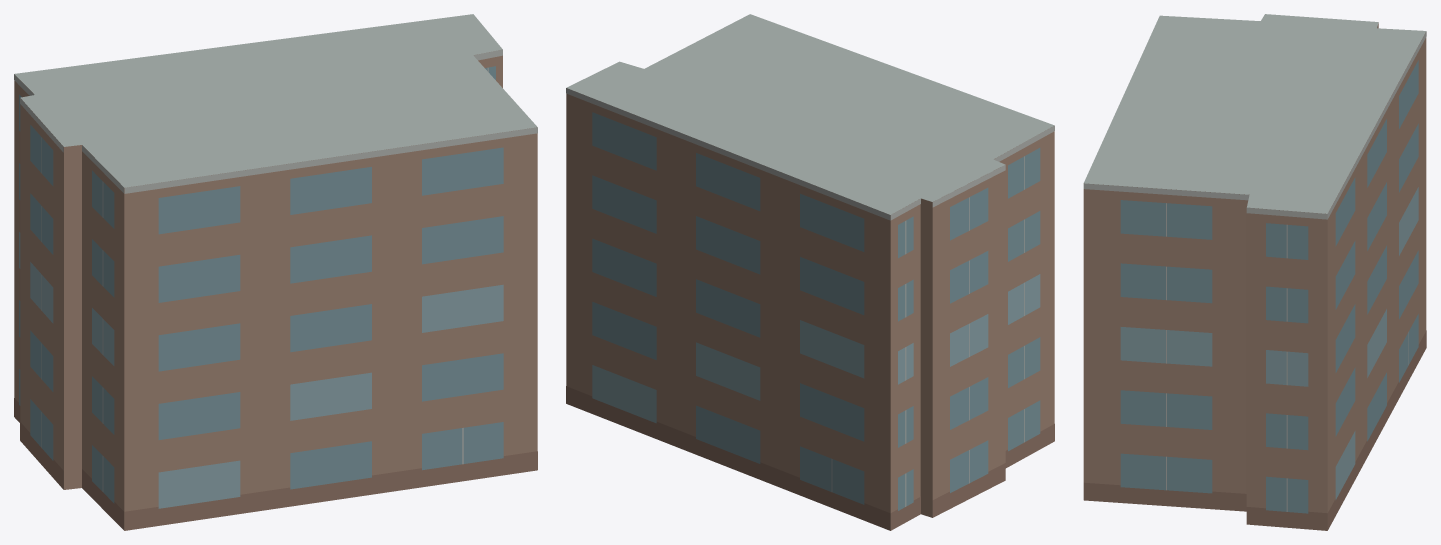
Rendered from survey-upis-33005167.glb.
3 renders of one model, left to right at view 1: azimuth 30°, elevation 25°; view 2: azimuth 150°, elevation 25°; view 3: azimuth 270°, elevation 25°, orthographic. The views are drawn at different scales.
Parts seen in each view (by area): view 1: survey-upis-33005167.tmp; view 2: survey-upis-33005167.tmp; view 3: survey-upis-33005167.tmp.
Boxes of the visible parts, x1,y1,x2,y2 form: survey-upis-33005167.tmp: (14, 14, 537, 530); survey-upis-33005167.tmp: (566, 14, 1054, 530); survey-upis-33005167.tmp: (1083, 14, 1426, 530).
Bounding box in the file's own units: 18.47 × 13.65 × 13.39.
